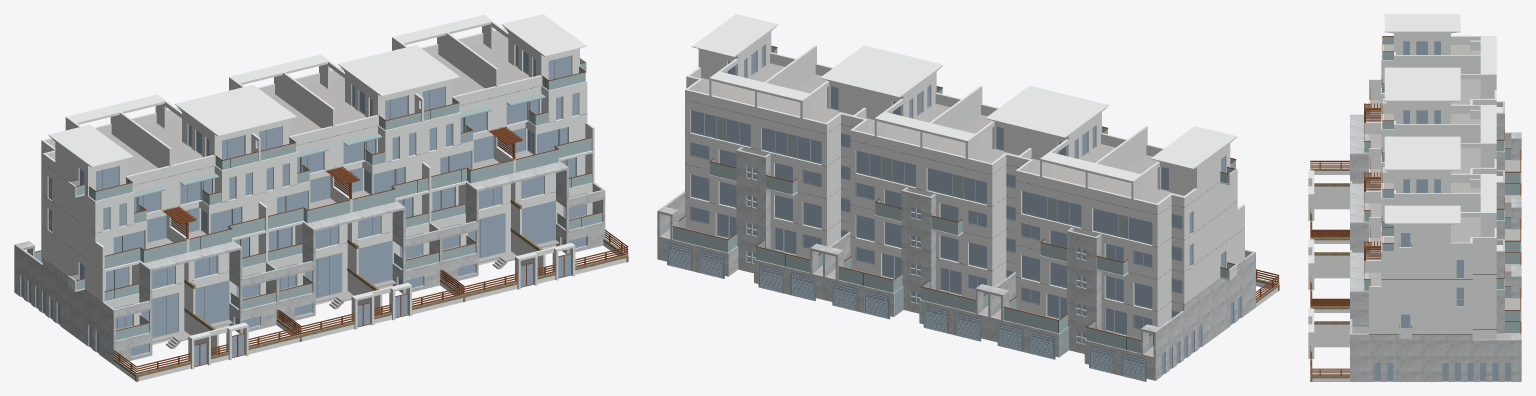
3 views of the same model, side by side, from view 1: azimuth 30°, elevation 25°; view 2: azimuth 150°, elevation 25°; view 3: azimuth 270°, elevation 25° (orthographic). The views are drawn at different scales.
Visible parts, largest first — view 1: Obj3d66-577790-6-73, Obj3d66-577790-18-193, Obj3d66-577790-3-644, Obj3d66-577790-15-916, Obj3d66-577790-4-943, Obj3d66-577790-2-220, Obj3d66-577790-14-572, Obj3d66-577790-16-837, Obj3d66-577790-5-119, Obj3d66-577790-9-278, Obj3d66-577790-7-458, Obj3d66-577790-1-847 (+6 smaller); view 2: Obj3d66-577790-6-73, Obj3d66-577790-18-193, Obj3d66-577790-3-644, Obj3d66-577790-2-220, Obj3d66-577790-14-572, Obj3d66-577790-15-916, Obj3d66-577790-7-458, Obj3d66-577790-19-121, Obj3d66-577790-4-943, Obj3d66-577790-9-278, Obj3d66-577790-16-837, Obj3d66-577790-12-523 (+2 smaller); view 3: Obj3d66-577790-6-73, Obj3d66-577790-2-220, Obj3d66-577790-18-193, Obj3d66-577790-9-278, Obj3d66-577790-1-847, Obj3d66-577790-14-572, Obj3d66-577790-5-119, Obj3d66-577790-3-644, Obj3d66-577790-4-943, Obj3d66-577790-12-523, Obj3d66-577790-17-377, Obj3d66-577790-13-894 (+6 smaller).
Boxes of the visible parts, <box> form: Obj3d66-577790-6-73: <box>215,14,594,329</box>; Obj3d66-577790-18-193: <box>41,94,265,369</box>; Obj3d66-577790-3-644: <box>259,45,585,326</box>; Obj3d66-577790-15-916: <box>21,125,259,366</box>; Obj3d66-577790-4-943: <box>260,63,602,300</box>; Obj3d66-577790-2-220: <box>266,160,605,322</box>; Obj3d66-577790-14-572: <box>14,240,278,364</box>; Obj3d66-577790-16-837: <box>35,152,275,340</box>; Obj3d66-577790-5-119: <box>260,62,628,333</box>; Obj3d66-577790-9-278: <box>269,37,585,309</box>; Obj3d66-577790-7-458: <box>266,45,586,316</box>; Obj3d66-577790-1-847: <box>276,182,626,341</box>; Obj3d66-577790-6-73: <box>685,14,1069,299</box>; Obj3d66-577790-18-193: <box>1015,95,1244,339</box>; Obj3d66-577790-3-644: <box>668,45,1015,340</box>; Obj3d66-577790-2-220: <box>657,147,1015,339</box>; Obj3d66-577790-14-572: <box>988,227,1255,380</box>; Obj3d66-577790-15-916: <box>998,126,1240,380</box>; Obj3d66-577790-7-458: <box>667,45,1015,341</box>; Obj3d66-577790-19-121: <box>997,125,1240,381</box>; Obj3d66-577790-4-943: <box>673,46,988,312</box>; Obj3d66-577790-9-278: <box>661,63,1018,315</box>; Obj3d66-577790-16-837: <box>1003,127,1235,353</box>; Obj3d66-577790-12-523: <box>992,144,1184,355</box>; Obj3d66-577790-6-73: <box>1308,83,1504,358</box>; Obj3d66-577790-2-220: <box>1350,170,1521,381</box>; Obj3d66-577790-18-193: <box>1308,14,1504,220</box>; Obj3d66-577790-9-278: <box>1369,114,1519,339</box>; Obj3d66-577790-1-847: <box>1312,240,1368,381</box>; Obj3d66-577790-14-572: <box>1350,101,1521,201</box>; Obj3d66-577790-5-119: <box>1310,105,1520,375</box>; Obj3d66-577790-3-644: <box>1375,110,1510,380</box>; Obj3d66-577790-4-943: <box>1364,121,1520,332</box>; Obj3d66-577790-12-523: <box>1369,45,1519,201</box>; Obj3d66-577790-17-377: <box>1310,36,1520,237</box>; Obj3d66-577790-13-894: <box>1314,171,1349,209</box>.
Bounding box in the file's own units: 48.85 × 17.1 × 20.4.
11 materials, 4 textured.
